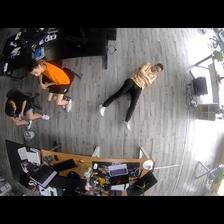fall: (99, 58, 165, 126)
normal: (29, 61, 75, 111), (6, 94, 49, 128)
